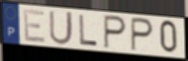0: (158, 18, 180, 57)
E: (22, 9, 47, 45)
L: (78, 14, 100, 47)
P: (103, 14, 128, 51), (130, 16, 155, 53)
U: (48, 9, 75, 47)
